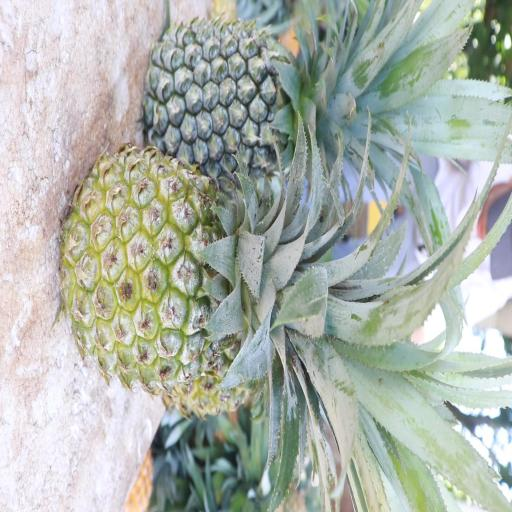------------------------------: (52, 146, 350, 400)
